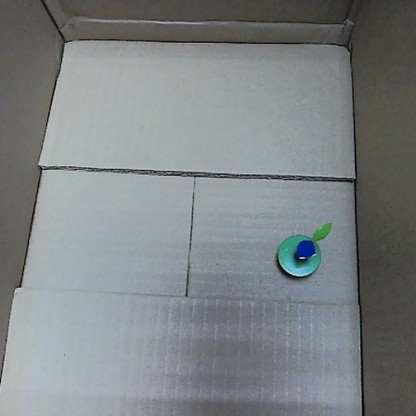leafairy: (272, 217, 333, 280)
